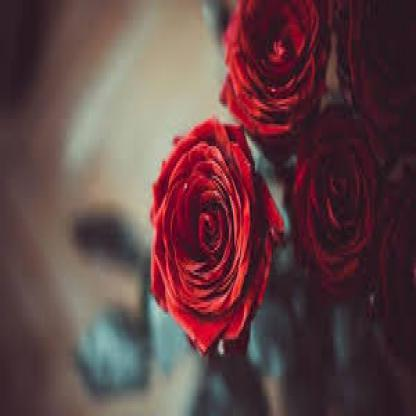Rose-Mawar: (131, 110, 281, 355)
